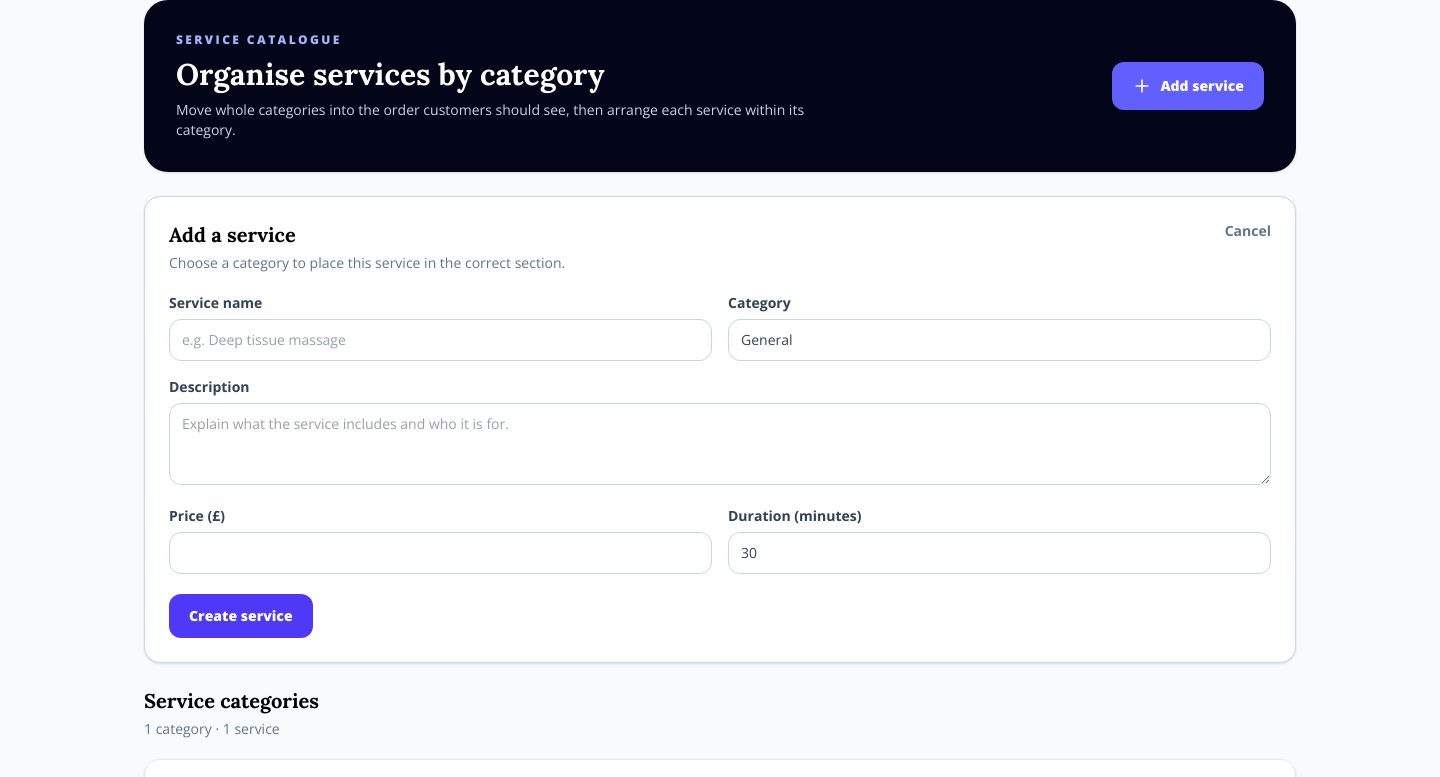
Test: ServicesPage › opens and submits the add-service form from the primary link query
The image size is (1440, 777).
Type "Consultation" into the field labelled "Service name" at (440, 340), box [169,319,712,361]
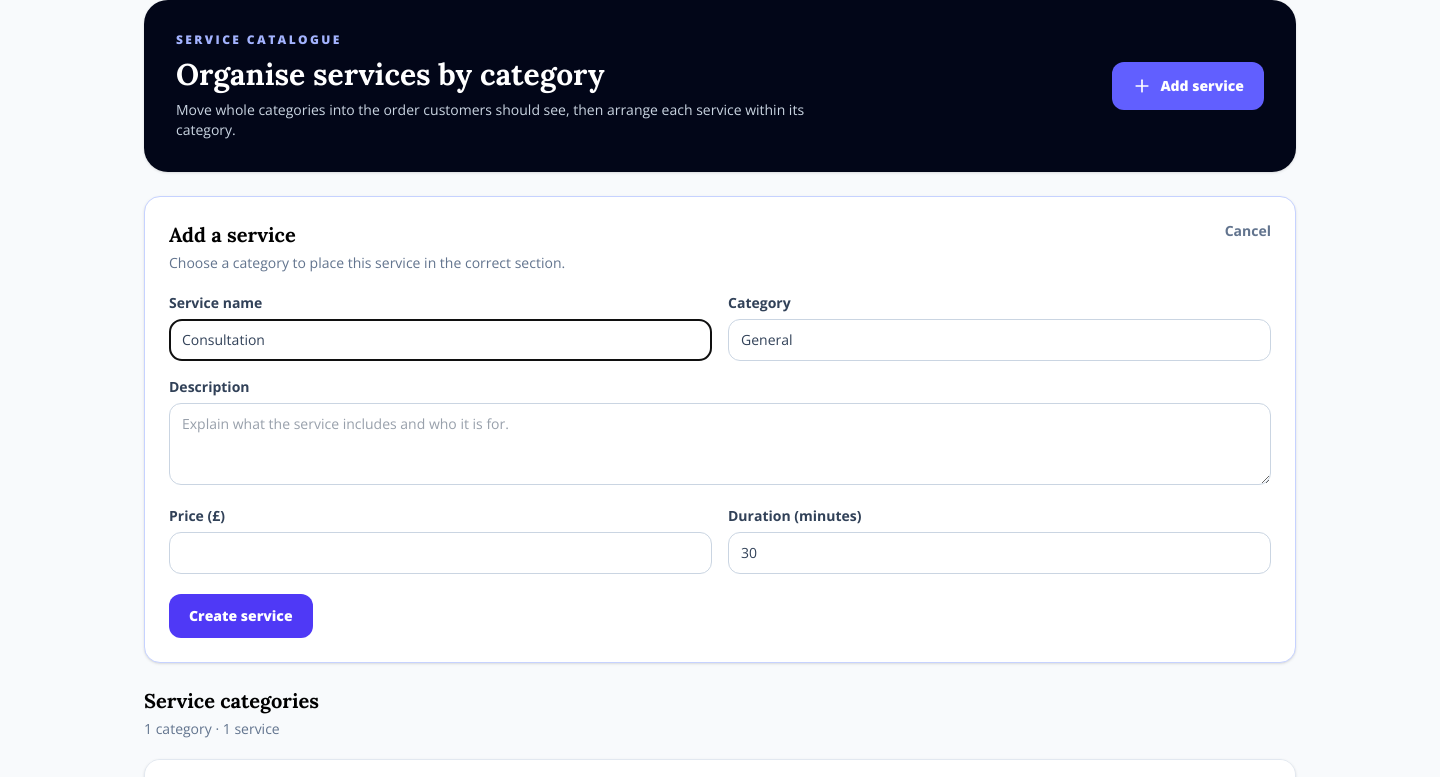
Replace the text in the field labelled "Category" with "Consultations" at (1000, 340), box [728,319,1271,361]
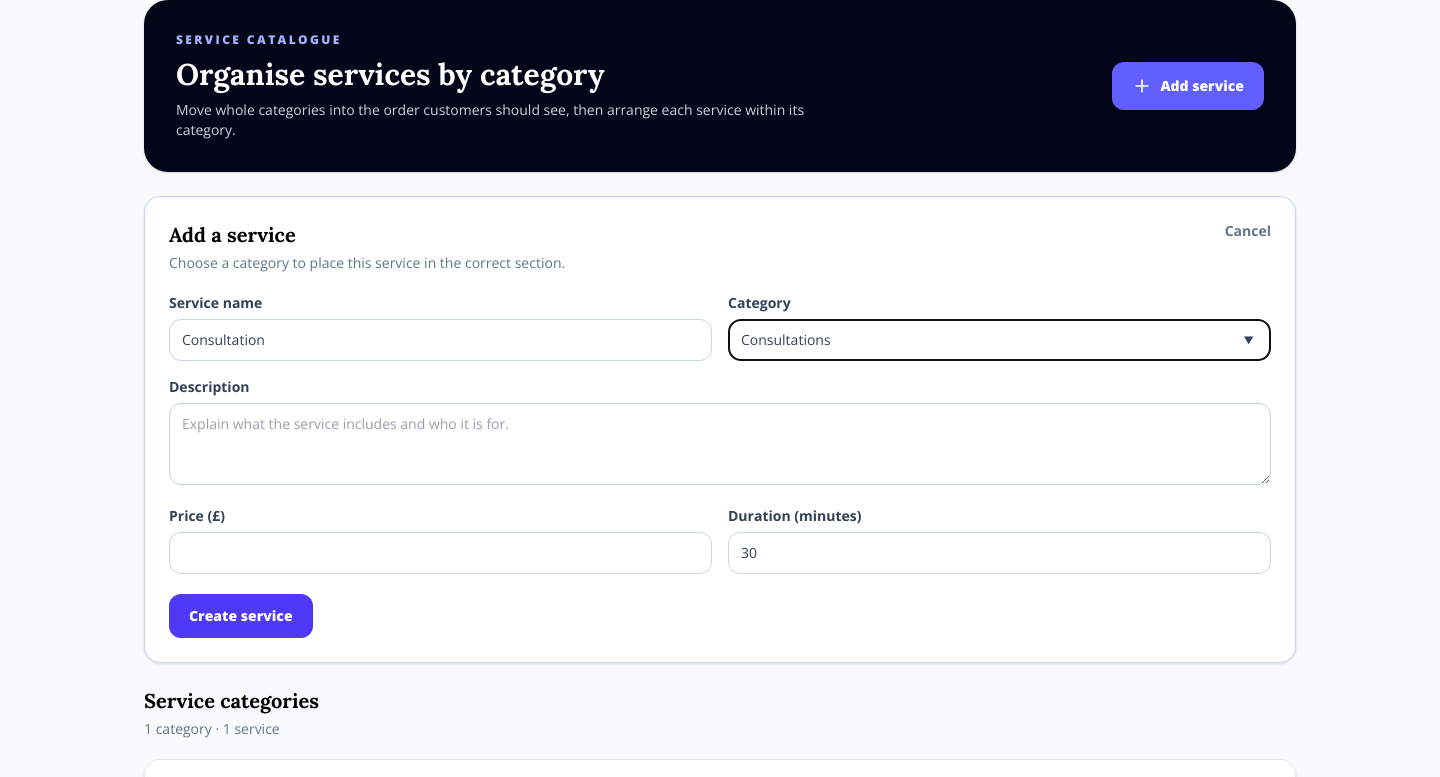
Type "A detailed consultation." into the text box labelled "Description" at (720, 444), box [169,403,1271,485]
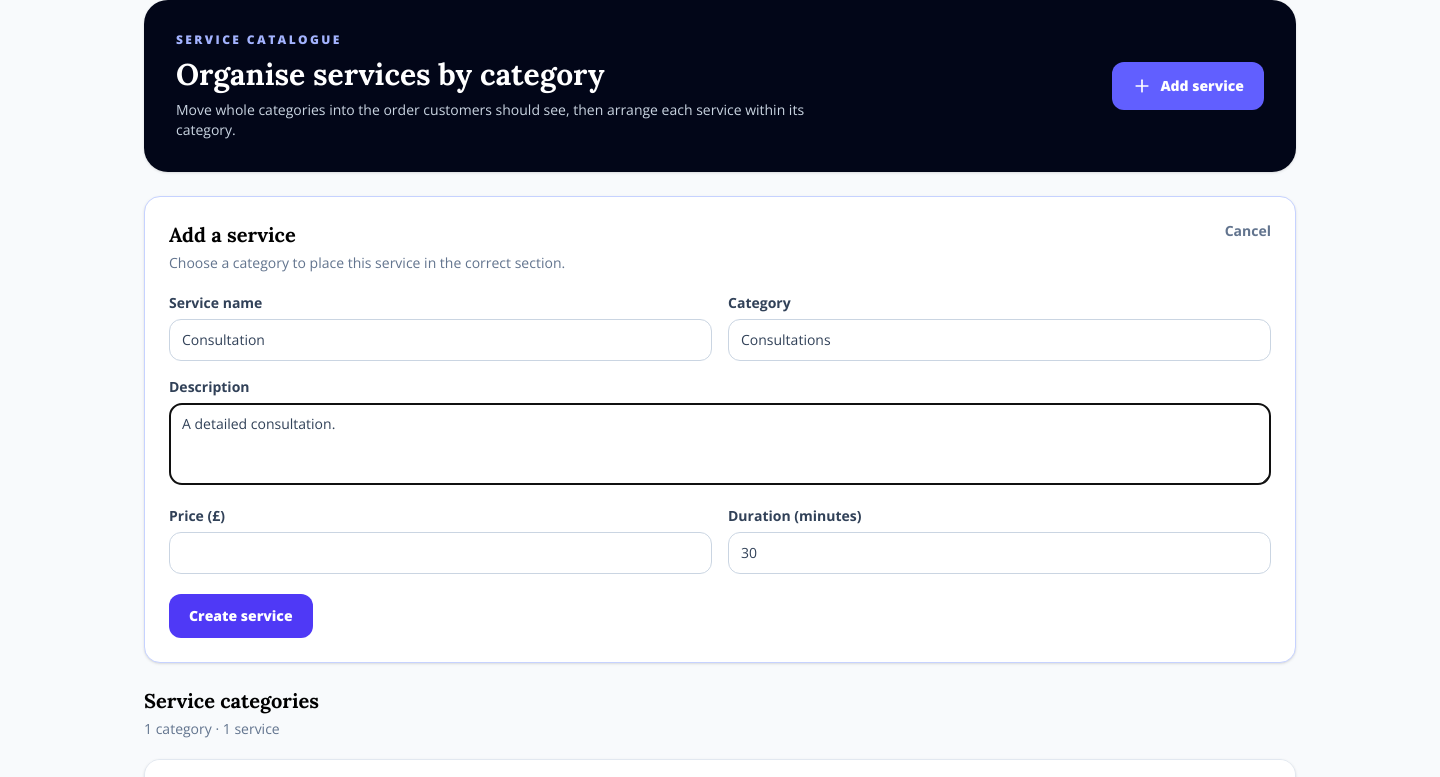
Type "25" into the number field labelled "Price (£)" at (440, 553), box [169,532,712,574]
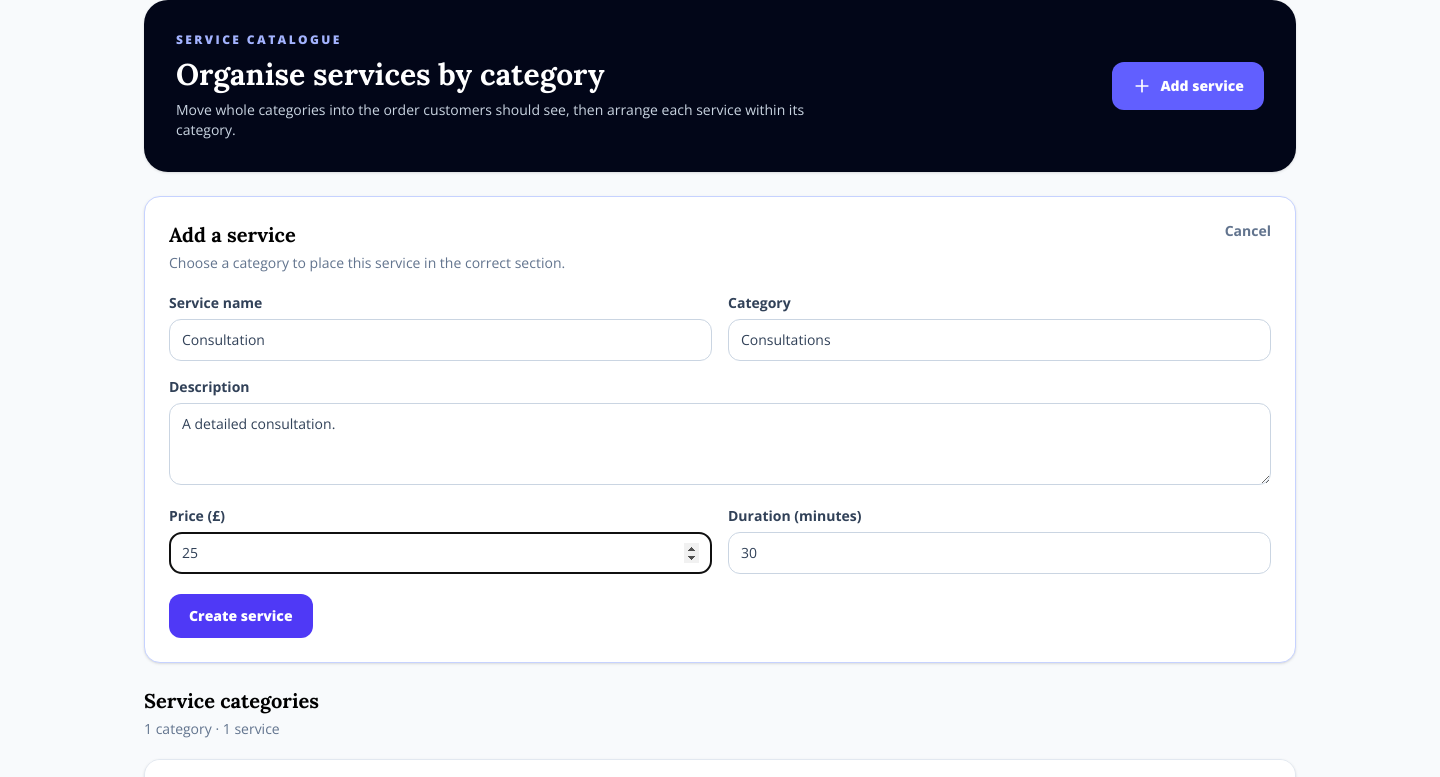
Click the button "Create service" at (241, 616), box [169,594,312,638]
(page scrolled)
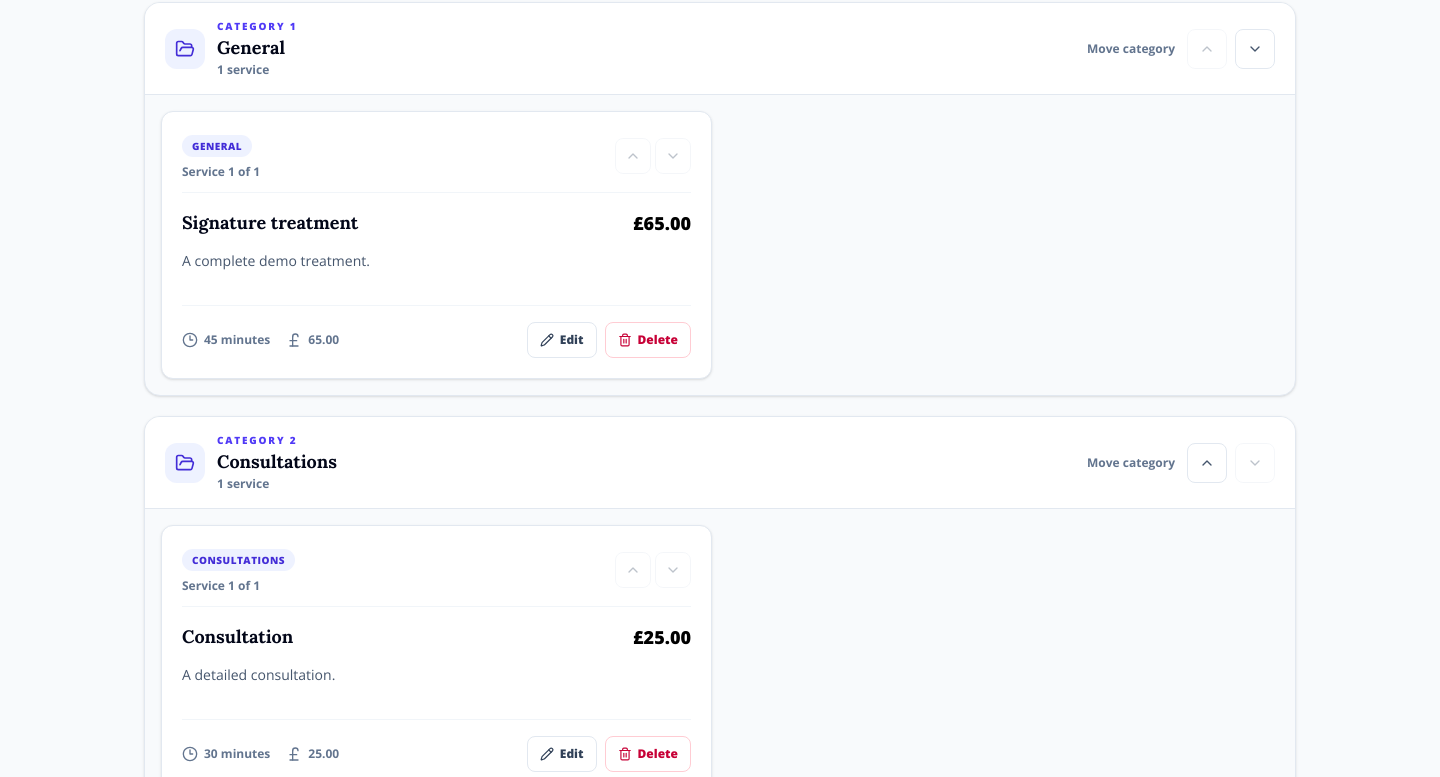
expect the heading "Consultations" is shown: met, box [217,448,337,476]
expect the heading "Consultation" is shown: met, box [182,623,293,651]
